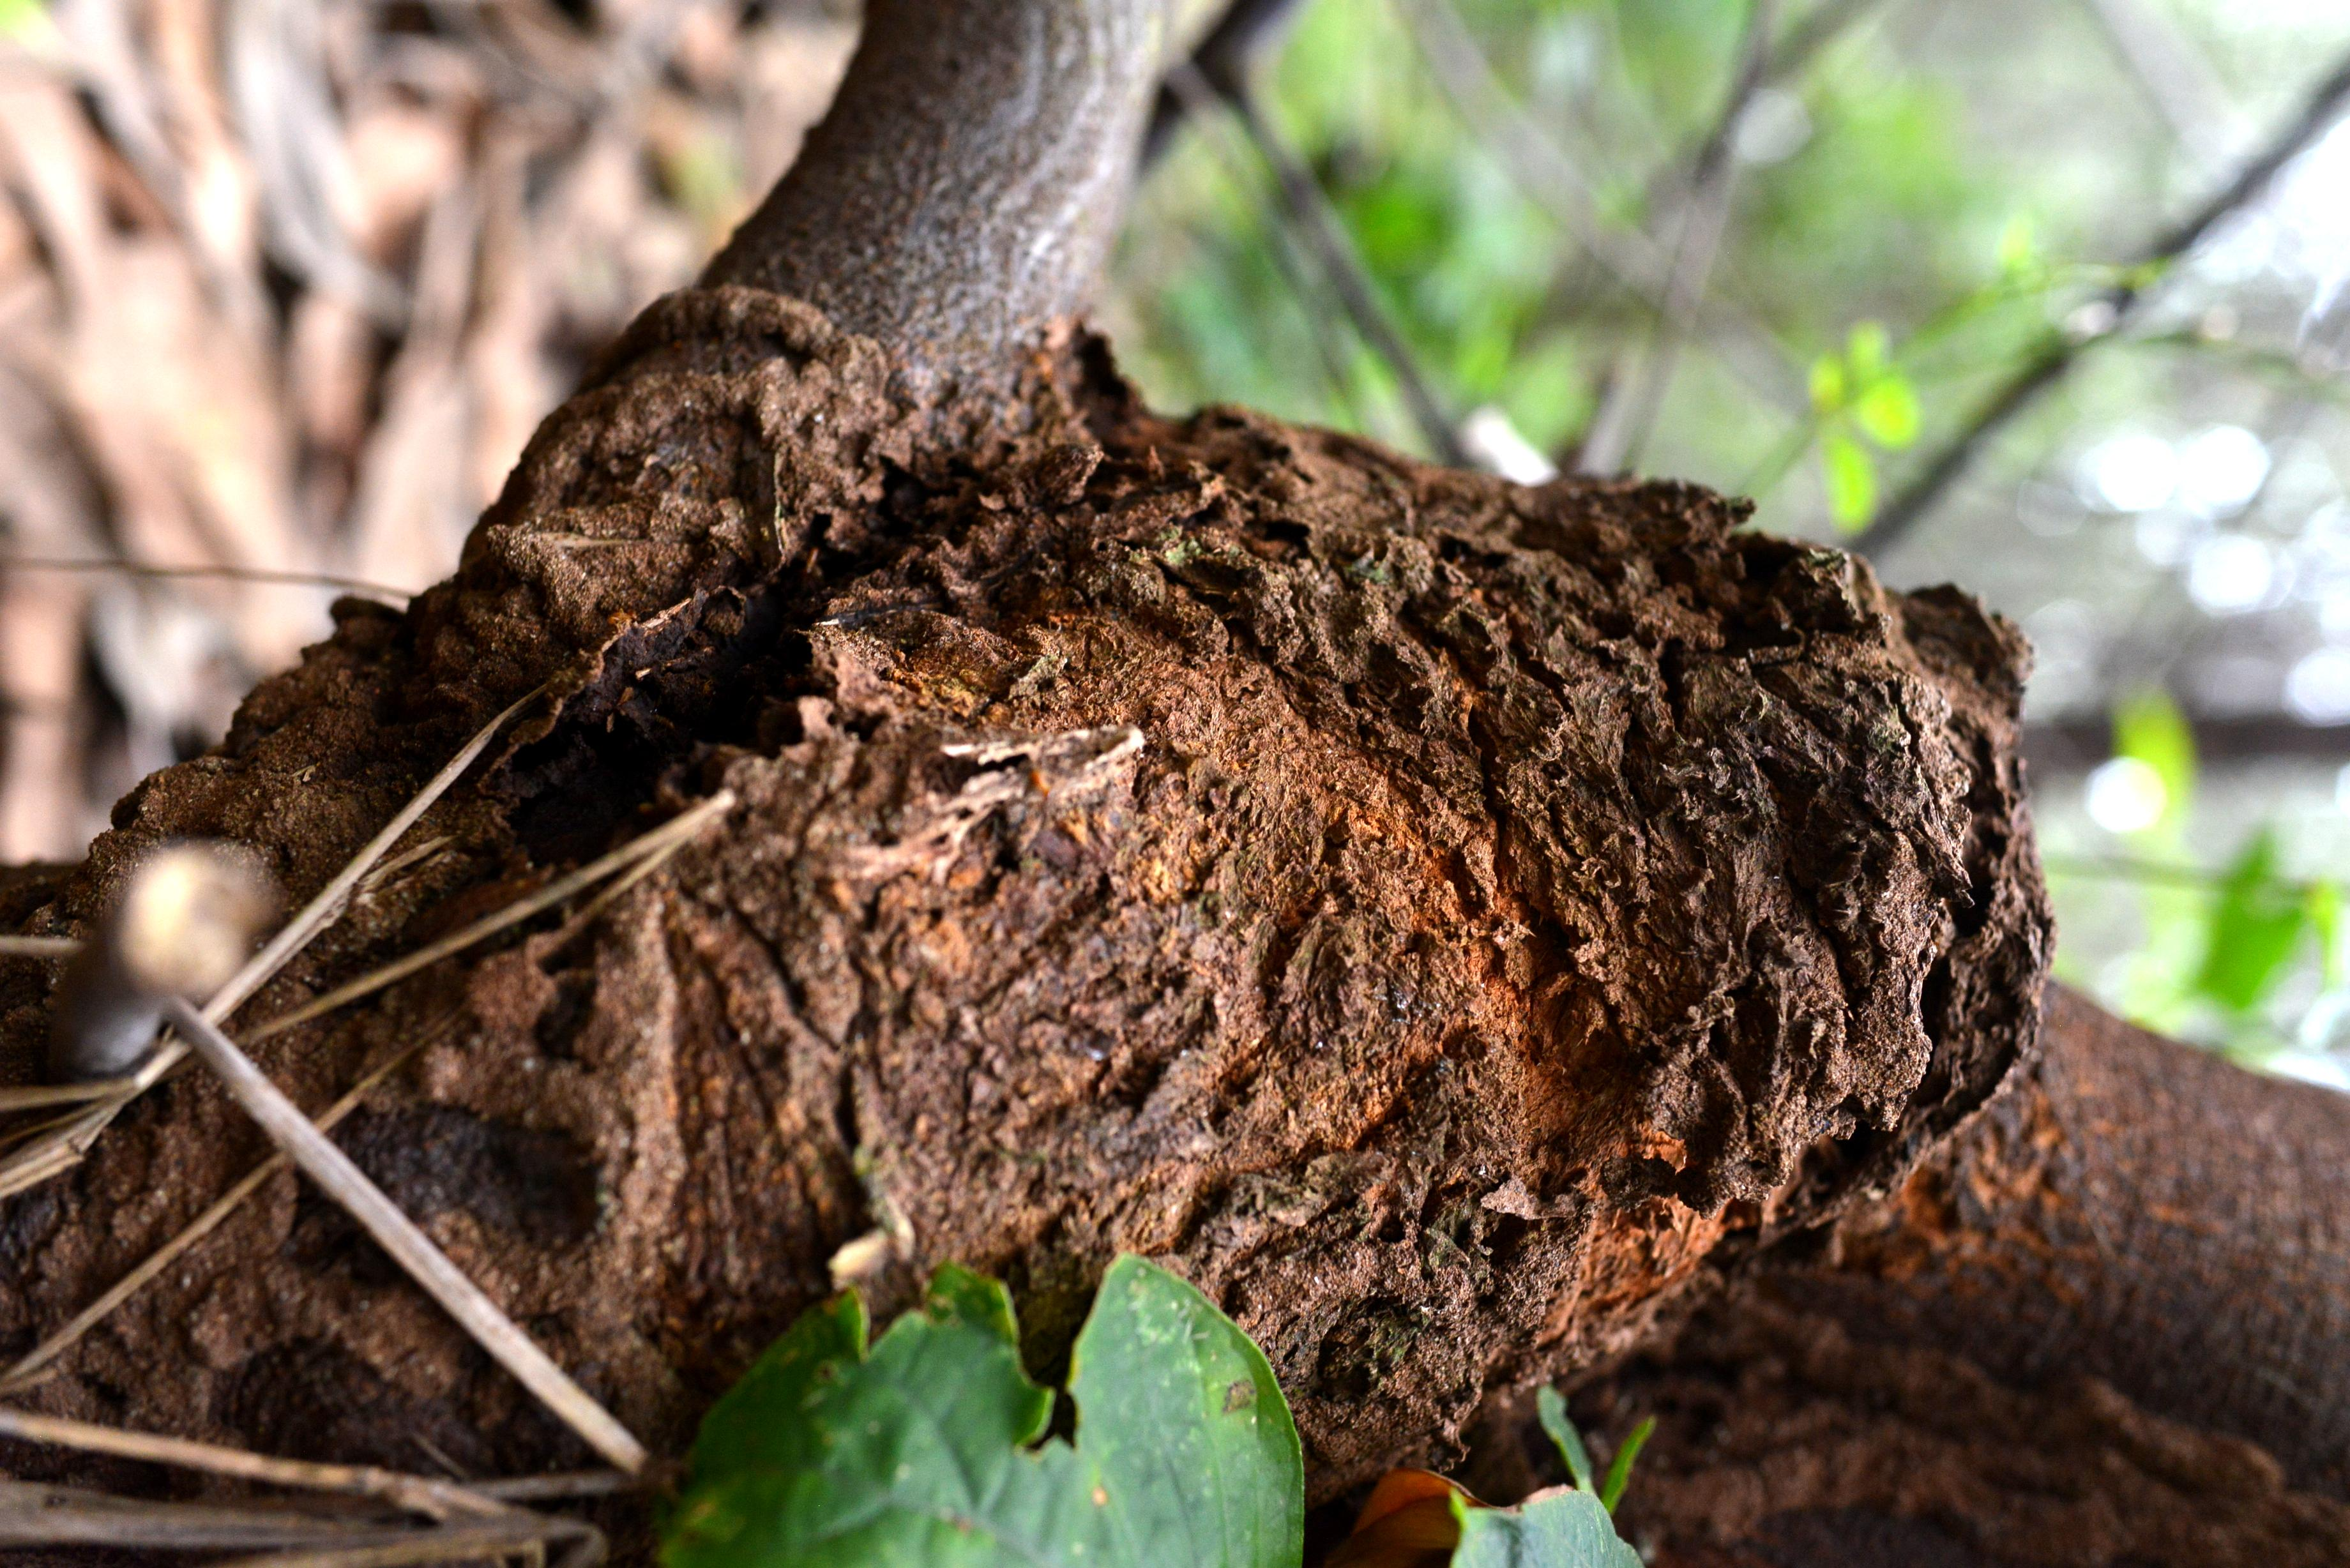Termite: (1006, 747, 1067, 814)
Termite - Nest: (1692, 1293, 2350, 1568), (490, 271, 901, 474)
